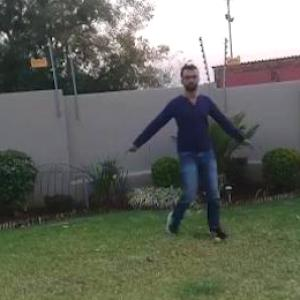land: (128, 72, 240, 219)
